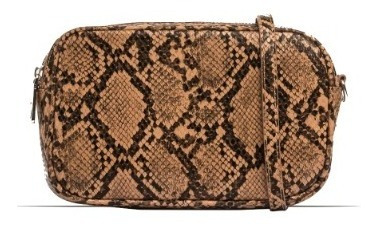cartera: (31, 13, 346, 212)
